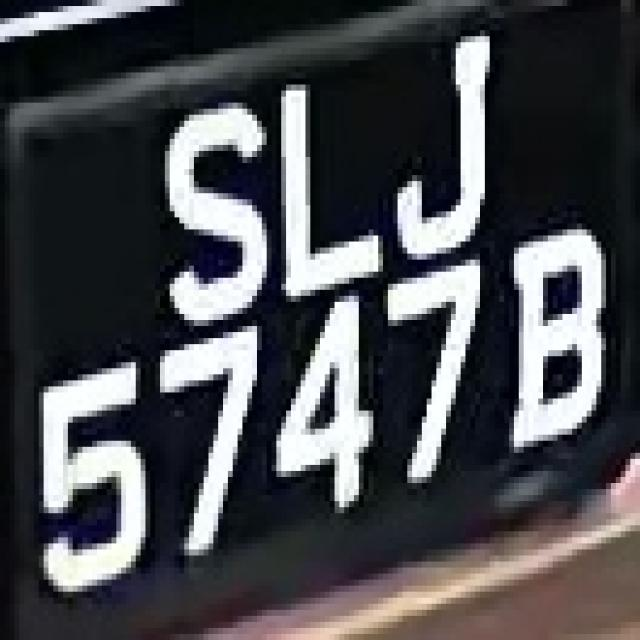4: (266, 278, 402, 531)
5: (24, 350, 160, 598)
7: (354, 230, 504, 495), (136, 308, 276, 574)
B: (504, 193, 611, 465)
J: (374, 30, 504, 272)
L: (262, 60, 388, 302)
S: (146, 91, 266, 314)
